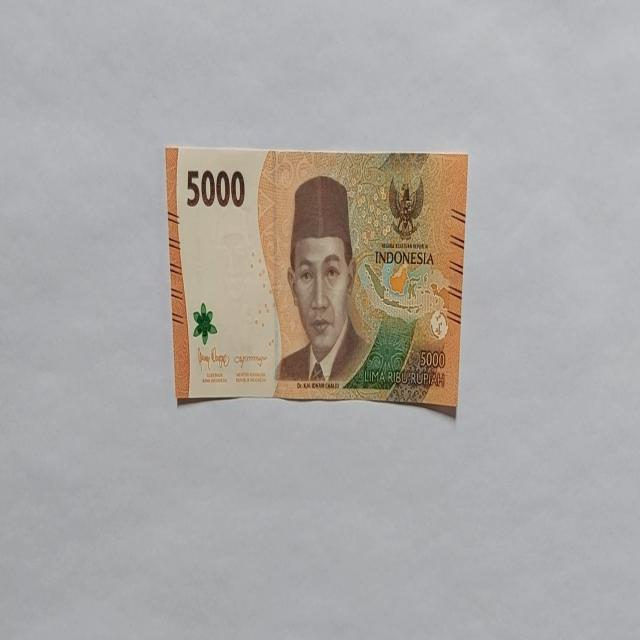lima ribu rupiah: (164, 144, 468, 415), (273, 174, 371, 386)
